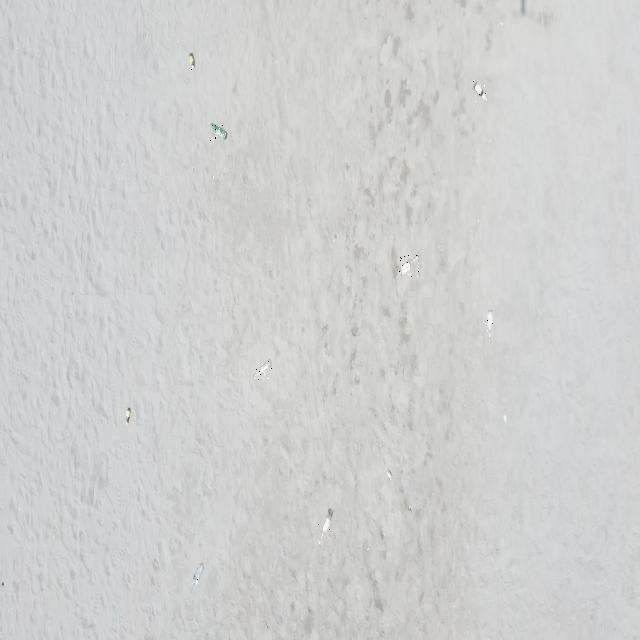glass: (399, 254, 419, 278), (318, 512, 332, 544), (190, 564, 204, 594), (254, 359, 272, 380), (472, 81, 487, 102), (210, 123, 227, 141), (487, 311, 493, 344), (189, 52, 194, 70), (126, 408, 130, 426), (386, 470, 392, 481)
